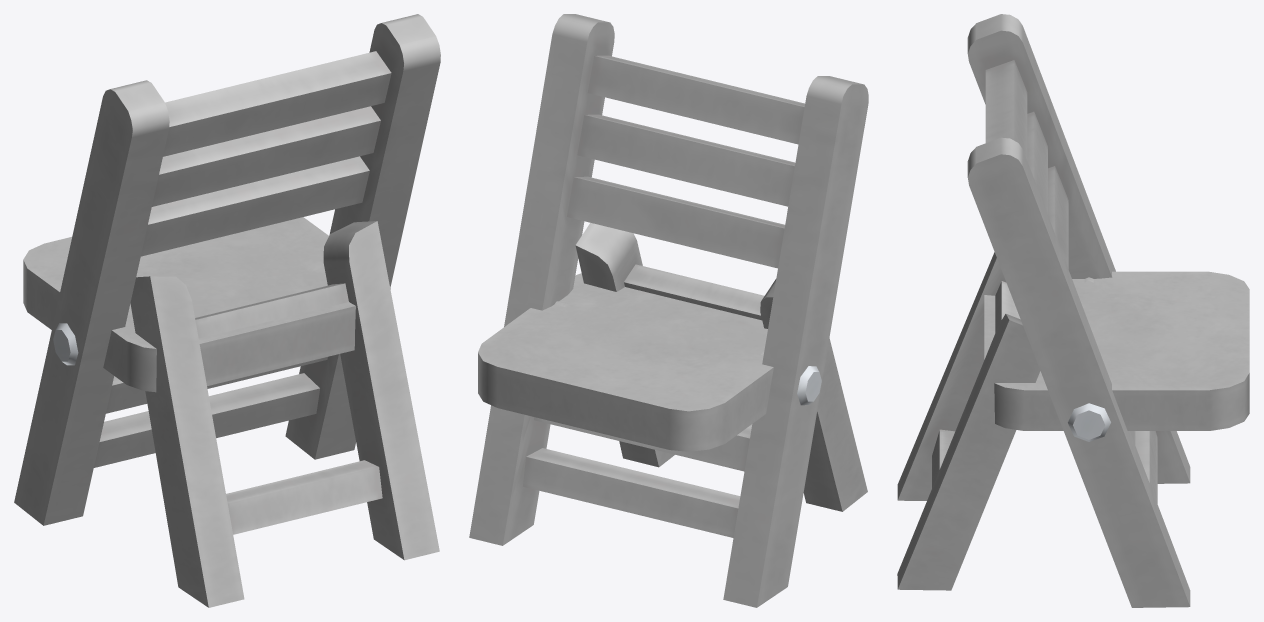
Rendered from Pfb_Desk.fbx.
3 views of the same model, side by side, from view 1: azimuth 30°, elevation 25°; view 2: azimuth 150°, elevation 25°; view 3: azimuth 270°, elevation 25° (orthographic). The views are drawn at different scales.
Visible parts, largest first — view 1: Mat_Desk; view 2: Mat_Desk; view 3: Mat_Desk.
Boxes of the visible parts, x1,y1,x2,y2 form: Mat_Desk: (14,14,440,607); Mat_Desk: (469,14,868,607); Mat_Desk: (897,14,1249,607).
Bounding box in the file's own units: 0.7325 × 1.06 × 0.7469.
1 material, 1 textured.
